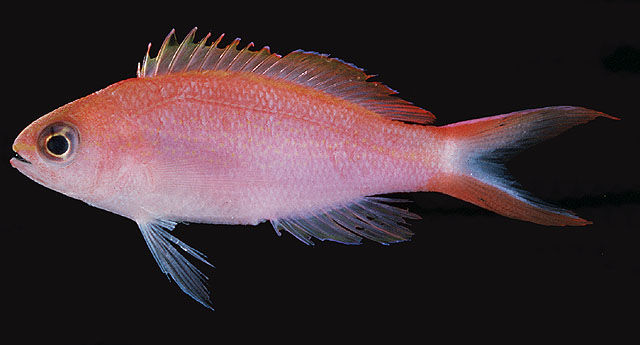fish: (10, 27, 620, 312)
